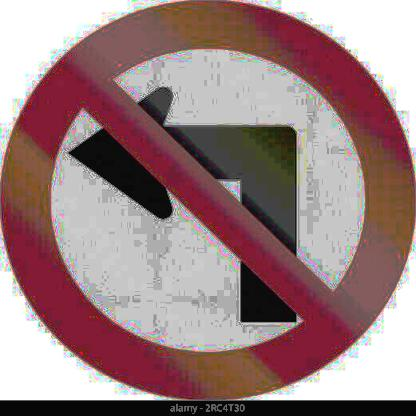No left turn: (3, 0, 416, 403)
